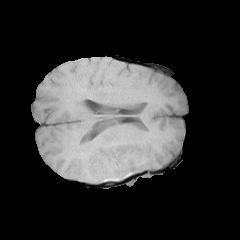glioma: (96, 146, 141, 181)
